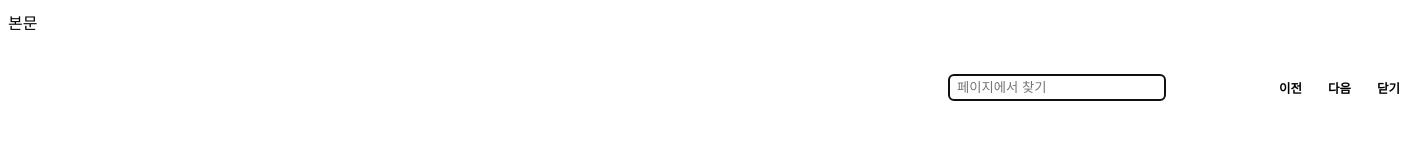
FindBar 찾기 › 찾기창 자신의 글자는 찾지 않는다
Type "이전" into the field labelled "페이지에서 찾기" at (1057, 88), box [949, 75, 1165, 100]
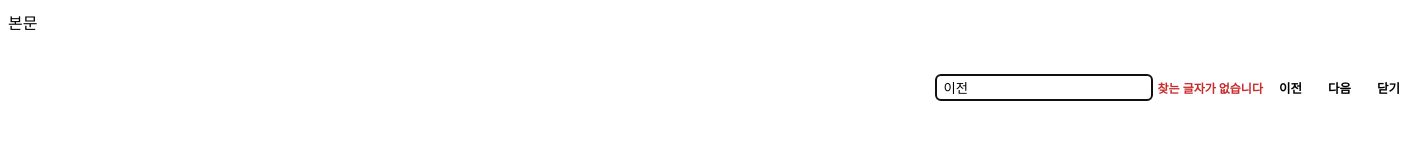
Result: the message reads "찾는 글자가 없습니다" at [1158, 82, 1263, 96]
